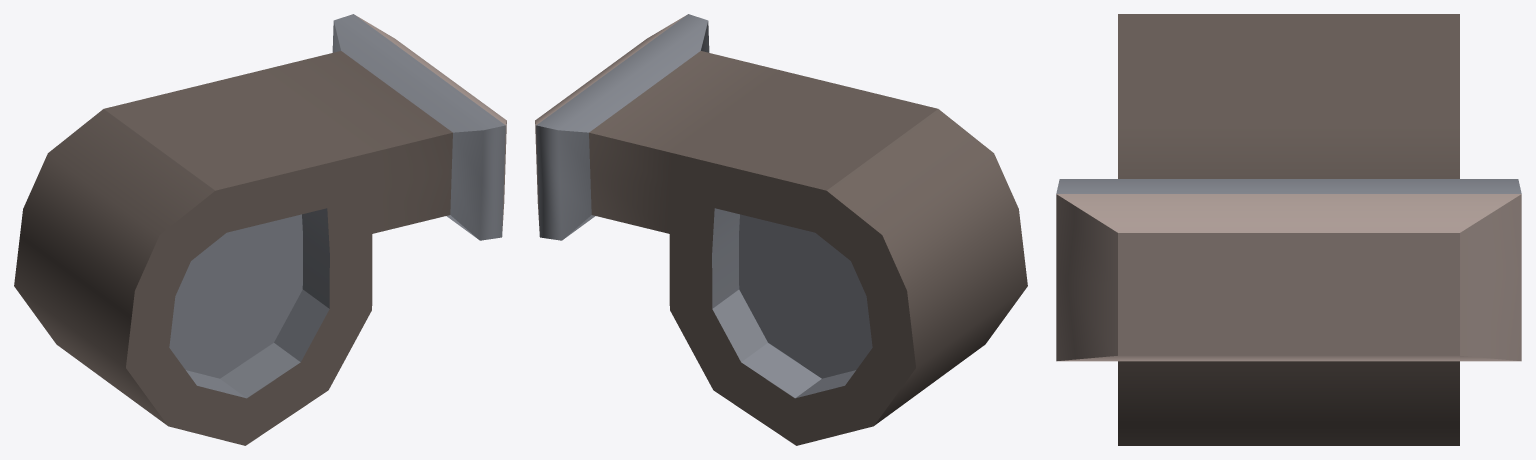
The model's file is EnginePart_04.fbx.
3 views of the same model, side by side, from view 1: azimuth 30°, elevation 25°; view 2: azimuth 150°, elevation 25°; view 3: azimuth 270°, elevation 25° (orthographic). The views are drawn at different scales.
Parts seen in each view (by area): view 1: EnginePart_04; view 2: EnginePart_04; view 3: EnginePart_04.
Boxes of the visible parts, x1,y1,x2,y2 form: EnginePart_04: (14, 14, 506, 445); EnginePart_04: (535, 14, 1027, 445); EnginePart_04: (1056, 14, 1521, 445).
Bounding box in the file's own units: 37.67 × 26.14 × 26.06.
